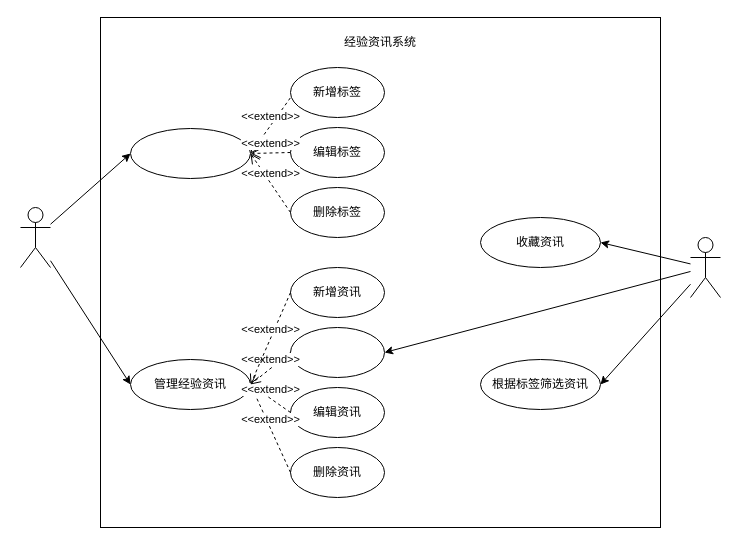
Some shapes in this 738 by 545 pixel diagram are drawn without their labels. Here are the shapes that lost their labels. From the top down, the centre of each, then its label:
At (x=190, y=153): "管理资讯标签".
At (x=35, y=237): "管理员".
At (x=705, y=267): "用户".
At (x=337, y=352): "查看资讯".
